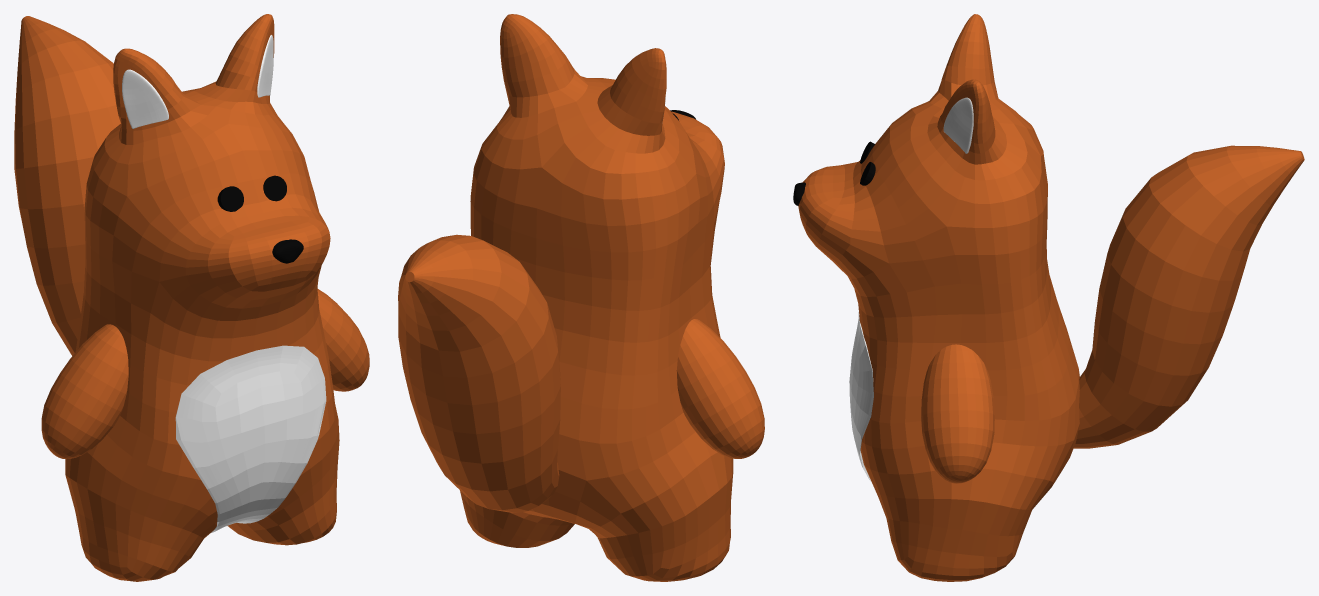
The model's file is squirrel.fbx.
3 views of the same model, side by side, from view 1: azimuth 30°, elevation 25°; view 2: azimuth 150°, elevation 25°; view 3: azimuth 270°, elevation 25° (orthographic). The views are drawn at different scales.
Visible parts, largest first — view 1: Squirrel Body; view 2: Squirrel Body; view 3: Squirrel Body.
Boxes of the visible parts, x1,y1,x2,y2 form: Squirrel Body: (14, 14, 369, 581); Squirrel Body: (398, 14, 764, 581); Squirrel Body: (793, 14, 1304, 581).
Bounding box in the file's own units: 98.48 × 150 × 142.
